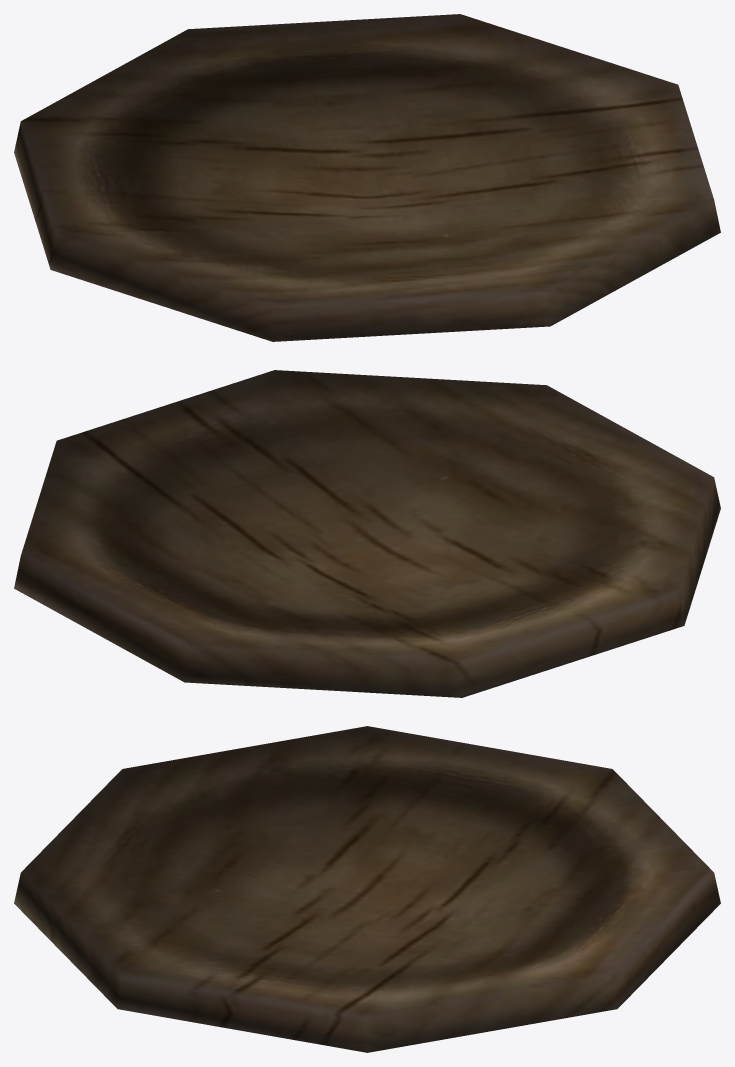
The model's file is Tv_Plate.glb.
The picture shows the model from 3 angles, top to bottom: view 1: azimuth 30°, elevation 25°; view 2: azimuth 150°, elevation 25°; view 3: azimuth 270°, elevation 25°; orthographic projection. The views are drawn at different scales.
Parts seen in each view (by area): view 1: plate_wood; view 2: plate_wood; view 3: plate_wood.
Boxes of the visible parts, box(x1,y1,x2,y2) form: plate_wood: box(14, 14, 720, 341); plate_wood: box(14, 370, 720, 697); plate_wood: box(14, 726, 720, 1052).
Size of the model in its own units: 0.22 by 0.0216 by 0.22.
1 material, 1 textured.
